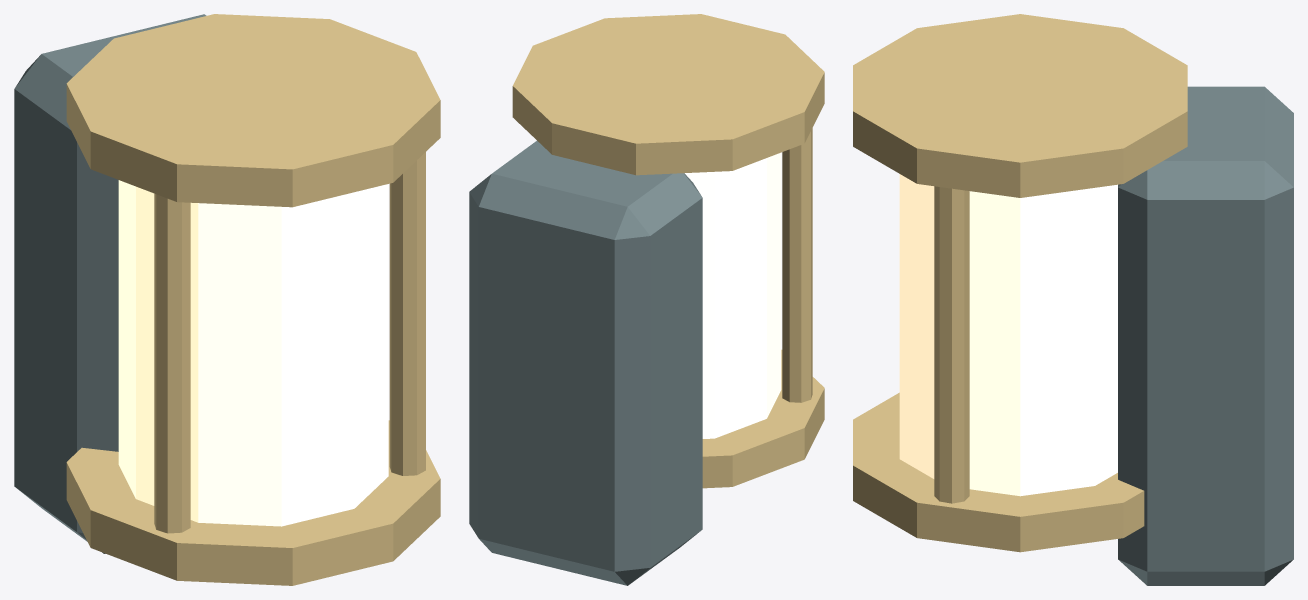
File: lamp.glb
3 views of the same model, side by side, from view 1: azimuth 30°, elevation 25°; view 2: azimuth 150°, elevation 25°; view 3: azimuth 270°, elevation 25° (orthographic). The views are drawn at different scales.
Visible parts, largest first — view 1: lamp; view 2: lamp; view 3: lamp.
Part boxes in pixels (x1,y1,x2,y2): lamp: (14, 14, 440, 585); lamp: (469, 14, 824, 585); lamp: (853, 14, 1293, 585).
Size of the model in its own units: 0.18 by 0.26 by 0.2256.
